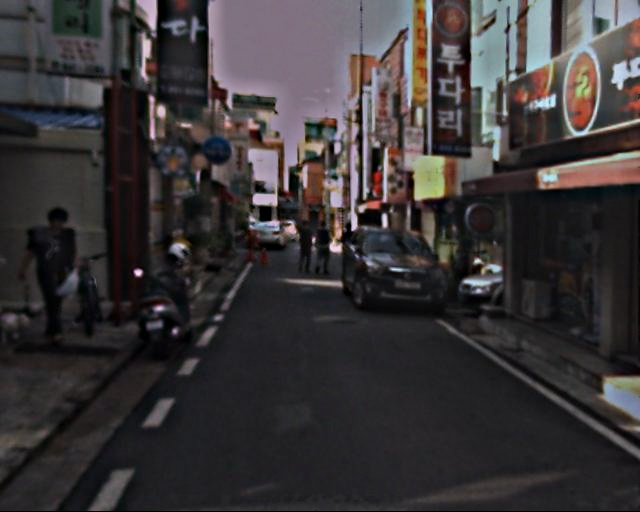person: (29, 204, 97, 345), (310, 219, 335, 279), (294, 220, 317, 277), (337, 222, 359, 276)
